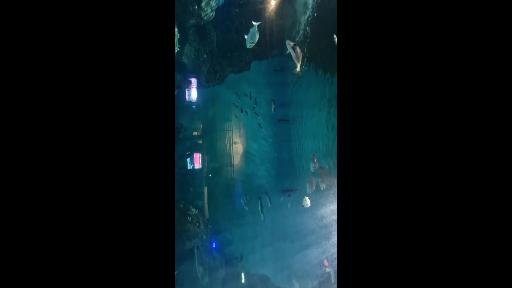Fish: (286, 40, 302, 75), (245, 22, 260, 48), (307, 174, 315, 193), (320, 167, 326, 189), (259, 197, 264, 220), (241, 196, 248, 211), (311, 154, 317, 171), (302, 197, 310, 207), (266, 192, 271, 207), (272, 99, 275, 113), (331, 269, 334, 283), (279, 119, 290, 122), (253, 98, 256, 109), (258, 123, 262, 131), (236, 92, 240, 100), (334, 35, 337, 45), (282, 189, 297, 191), (324, 259, 328, 266), (254, 112, 258, 118), (233, 103, 238, 107), (234, 114, 238, 119), (244, 110, 248, 115), (244, 93, 248, 97), (288, 193, 291, 198), (288, 201, 290, 208), (241, 107, 243, 113), (175, 270, 177, 275), (281, 196, 283, 201), (250, 92, 251, 100)
